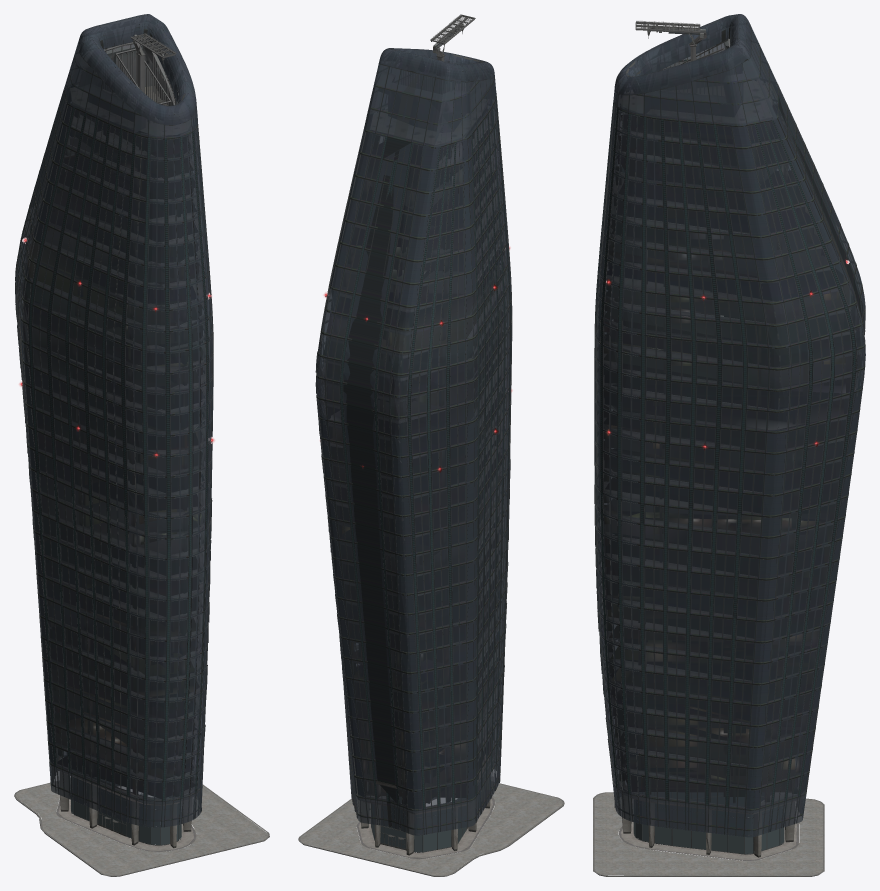
The model's file is london-hero.glb.
3 views of the same model, side by side, from view 1: azimuth 30°, elevation 25°; view 2: azimuth 150°, elevation 25°; view 3: azimuth 270°, elevation 25° (orthographic). The views are drawn at different scales.
Parts seen in each view (by area): view 1: Glass_Generic_Glass_Generic_0, Building_Facade_Building_Facade_0, Interior_Top_Interior_Top_0, Glass_Generic_More_Opaque_Glass_Generic_More_Opaque_0, Sidewalk_02_Sidewalk_02_0, Top_Piece_Top_Piece_0, Glass_Lobby_Glass_Lobby_0, Sidewalk_01_Sidewalk_01_0, Concrete_Pillar_Concrete_Pillar_0, Building_Maintenance_Unit_Building_Maintenance_Unit_0; view 2: Building_Facade_Building_Facade_0, Glass_Generic_Glass_Generic_0, Interior_Top_Interior_Top_0, Glass_Generic_More_Opaque_Glass_Generic_More_Opaque_0, Sidewalk_02_Sidewalk_02_0, Top_Piece_Top_Piece_0, Sidewalk_01_Sidewalk_01_0, Glass_Lobby_Glass_Lobby_0, Concrete_Pillar_Concrete_Pillar_0, Building_Maintenance_Unit_Building_Maintenance_Unit_0; view 3: Glass_Generic_Glass_Generic_0, Building_Facade_Building_Facade_0, Interior_Top_Interior_Top_0, Glass_Generic_More_Opaque_Glass_Generic_More_Opaque_0, Sidewalk_02_Sidewalk_02_0, Top_Piece_Top_Piece_0, Glass_Lobby_Glass_Lobby_0, Sidewalk_01_Sidewalk_01_0, Concrete_Pillar_Concrete_Pillar_0, Building_Maintenance_Unit_Building_Maintenance_Unit_0.
Part boxes in pixels (x1=…): Glass_Generic_Glass_Generic_0: x1=16, y1=88, x2=213, y2=827; Building_Facade_Building_Facade_0: x1=15, y1=14, x2=213, y2=845; Interior_Top_Interior_Top_0: x1=22, y1=110, x2=202, y2=798; Glass_Generic_More_Opaque_Glass_Generic_More_Opaque_0: x1=64, y1=14, x2=197, y2=138; Sidewalk_02_Sidewalk_02_0: x1=16, y1=779, x2=267, y2=875; Top_Piece_Top_Piece_0: x1=71, y1=42, x2=196, y2=135; Glass_Lobby_Glass_Lobby_0: x1=71, y1=769, x2=181, y2=844; Sidewalk_01_Sidewalk_01_0: x1=14, y1=781, x2=269, y2=876; Concrete_Pillar_Concrete_Pillar_0: x1=60, y1=767, x2=191, y2=848; Building_Maintenance_Unit_Building_Maintenance_Unit_0: x1=130, y1=33, x2=176, y2=93; Building_Facade_Building_Facade_0: x1=315, y1=48, x2=512, y2=852; Glass_Generic_Glass_Generic_0: x1=316, y1=98, x2=511, y2=835; Interior_Top_Interior_Top_0: x1=323, y1=108, x2=506, y2=804; Glass_Generic_More_Opaque_Glass_Generic_More_Opaque_0: x1=364, y1=48, x2=496, y2=147; Sidewalk_02_Sidewalk_02_0: x1=300, y1=784, x2=562, y2=875; Top_Piece_Top_Piece_0: x1=371, y1=71, x2=494, y2=144; Sidewalk_01_Sidewalk_01_0: x1=298, y1=783, x2=564, y2=876; Glass_Lobby_Glass_Lobby_0: x1=371, y1=791, x2=480, y2=851; Concrete_Pillar_Concrete_Pillar_0: x1=360, y1=770, x2=490, y2=855; Building_Maintenance_Unit_Building_Maintenance_Unit_0: x1=430, y1=14, x2=475, y2=61; Glass_Generic_Glass_Generic_0: x1=594, y1=86, x2=865, y2=837; Building_Facade_Building_Facade_0: x1=594, y1=14, x2=865, y2=854; Interior_Top_Interior_Top_0: x1=604, y1=105, x2=860, y2=802; Glass_Generic_More_Opaque_Glass_Generic_More_Opaque_0: x1=613, y1=14, x2=778, y2=126; Sidewalk_02_Sidewalk_02_0: x1=594, y1=793, x2=822, y2=875; Top_Piece_Top_Piece_0: x1=620, y1=38, x2=771, y2=122; Glass_Lobby_Glass_Lobby_0: x1=633, y1=792, x2=784, y2=853; Sidewalk_01_Sidewalk_01_0: x1=593, y1=792, x2=824, y2=876; Concrete_Pillar_Concrete_Pillar_0: x1=622, y1=786, x2=794, y2=857; Building_Maintenance_Unit_Building_Maintenance_Unit_0: x1=635, y1=21, x2=706, y2=92.
Size of the model in its own units: 0.0929 by 0.4161 by 0.1271.
13 materials, 13 textured.
